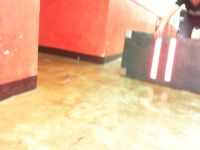switch: (149, 37, 162, 79), (164, 38, 176, 82)
